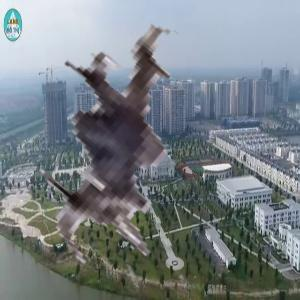drone: (2, 11, 268, 277)
